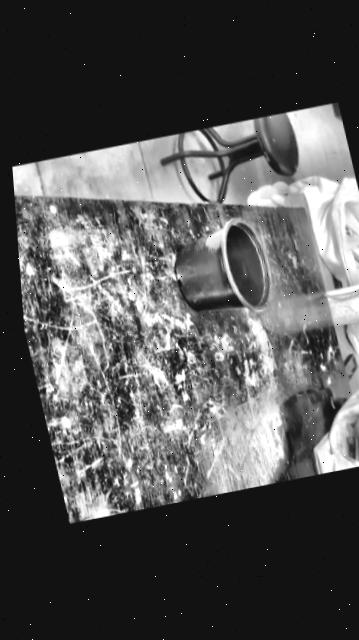pot: (164, 217, 277, 326)
